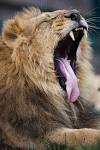lion: (5, 8, 100, 148)
